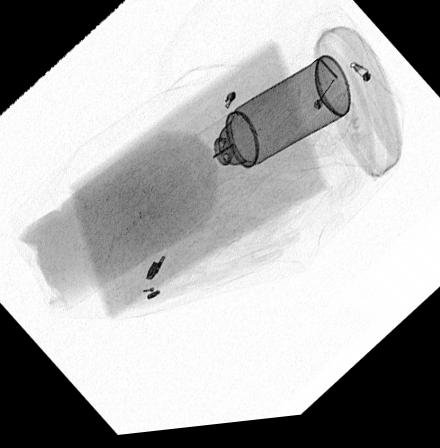Sprayer: (187, 61, 352, 193)
